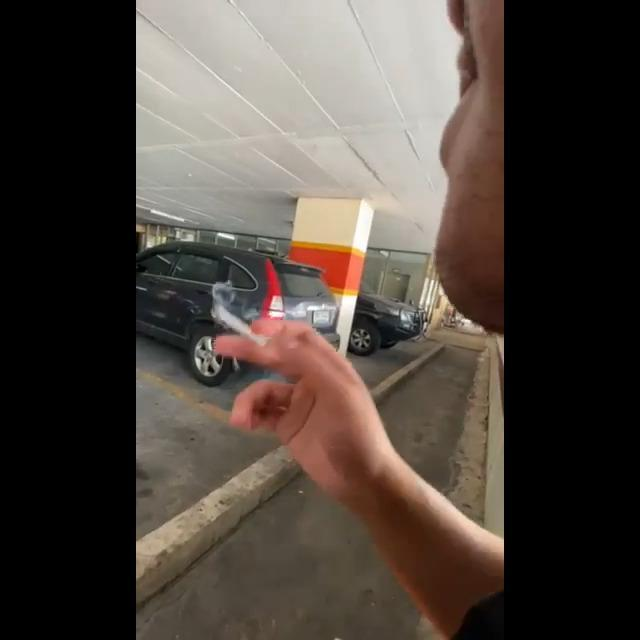rokok: (199, 298, 273, 348)
